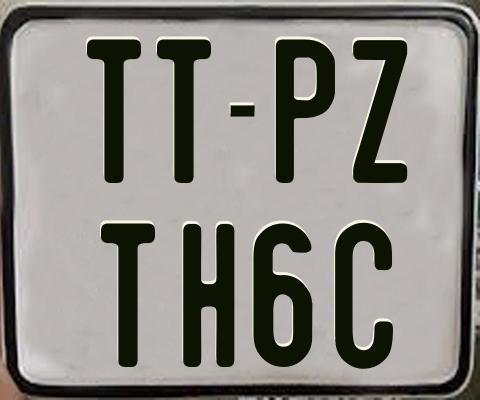6: (253, 221, 319, 370)
C: (332, 221, 392, 370)
H: (180, 222, 236, 367)
P: (274, 38, 336, 184)
T: (101, 222, 161, 371), (84, 36, 143, 180), (155, 36, 209, 183)
Z: (353, 39, 410, 184)
